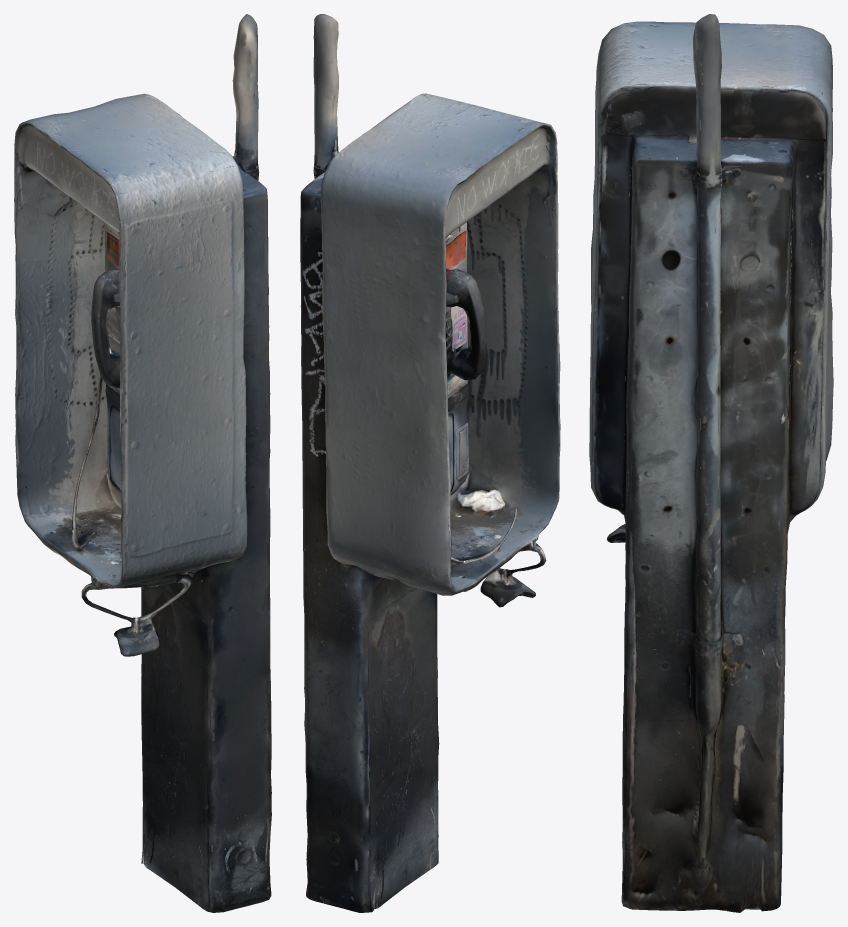
Rendered from payphone.glb.
3 renders of one model, left to right at view 1: azimuth 30°, elevation 25°; view 2: azimuth 150°, elevation 25°; view 3: azimuth 270°, elevation 25°, orthographic. The views are drawn at different scales.
Visible parts, largest first — view 1: Payphone; view 2: Payphone; view 3: Payphone.
Part boxes in pixels (x1=…): Payphone: x1=14, y1=14, x2=271, y2=912; Payphone: x1=300, y1=14, x2=560, y2=912; Payphone: x1=589, y1=14, x2=833, y2=912.
Size of the model in its own units: 0.4987 by 2 by 0.4903.
1 material, 1 textured.
